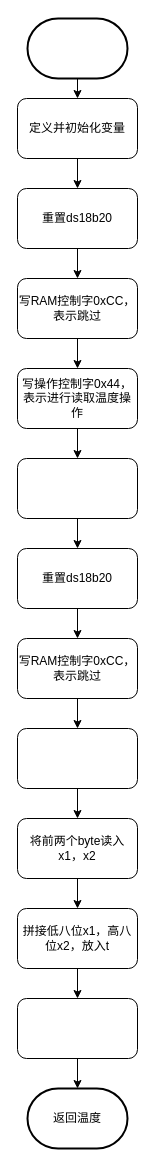
Some shapes in this 155 by 1166 pixel diagram are drawn without their labels. The shapes that lost their labels are listed below. From the top down, each one's centre as x and y in pixels, then its label:
the point at 77,48: 读取温度函数开始
the point at 77,488: 将DQ置高，并延时600ms
the point at 77,758: 写操作控制字0xBE，表示从寄存器读出数据
the point at 77,1028: 将t转换为10进制温度
